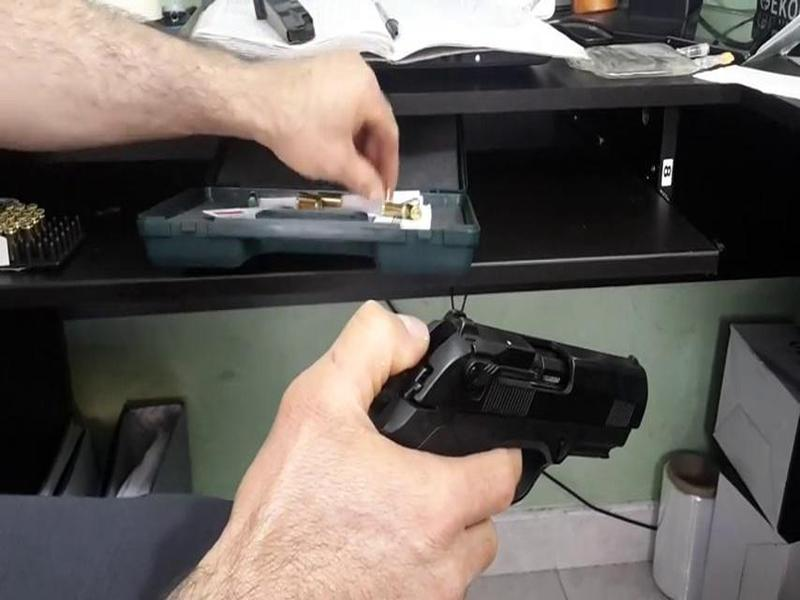Pistola: (356, 256, 658, 525)
